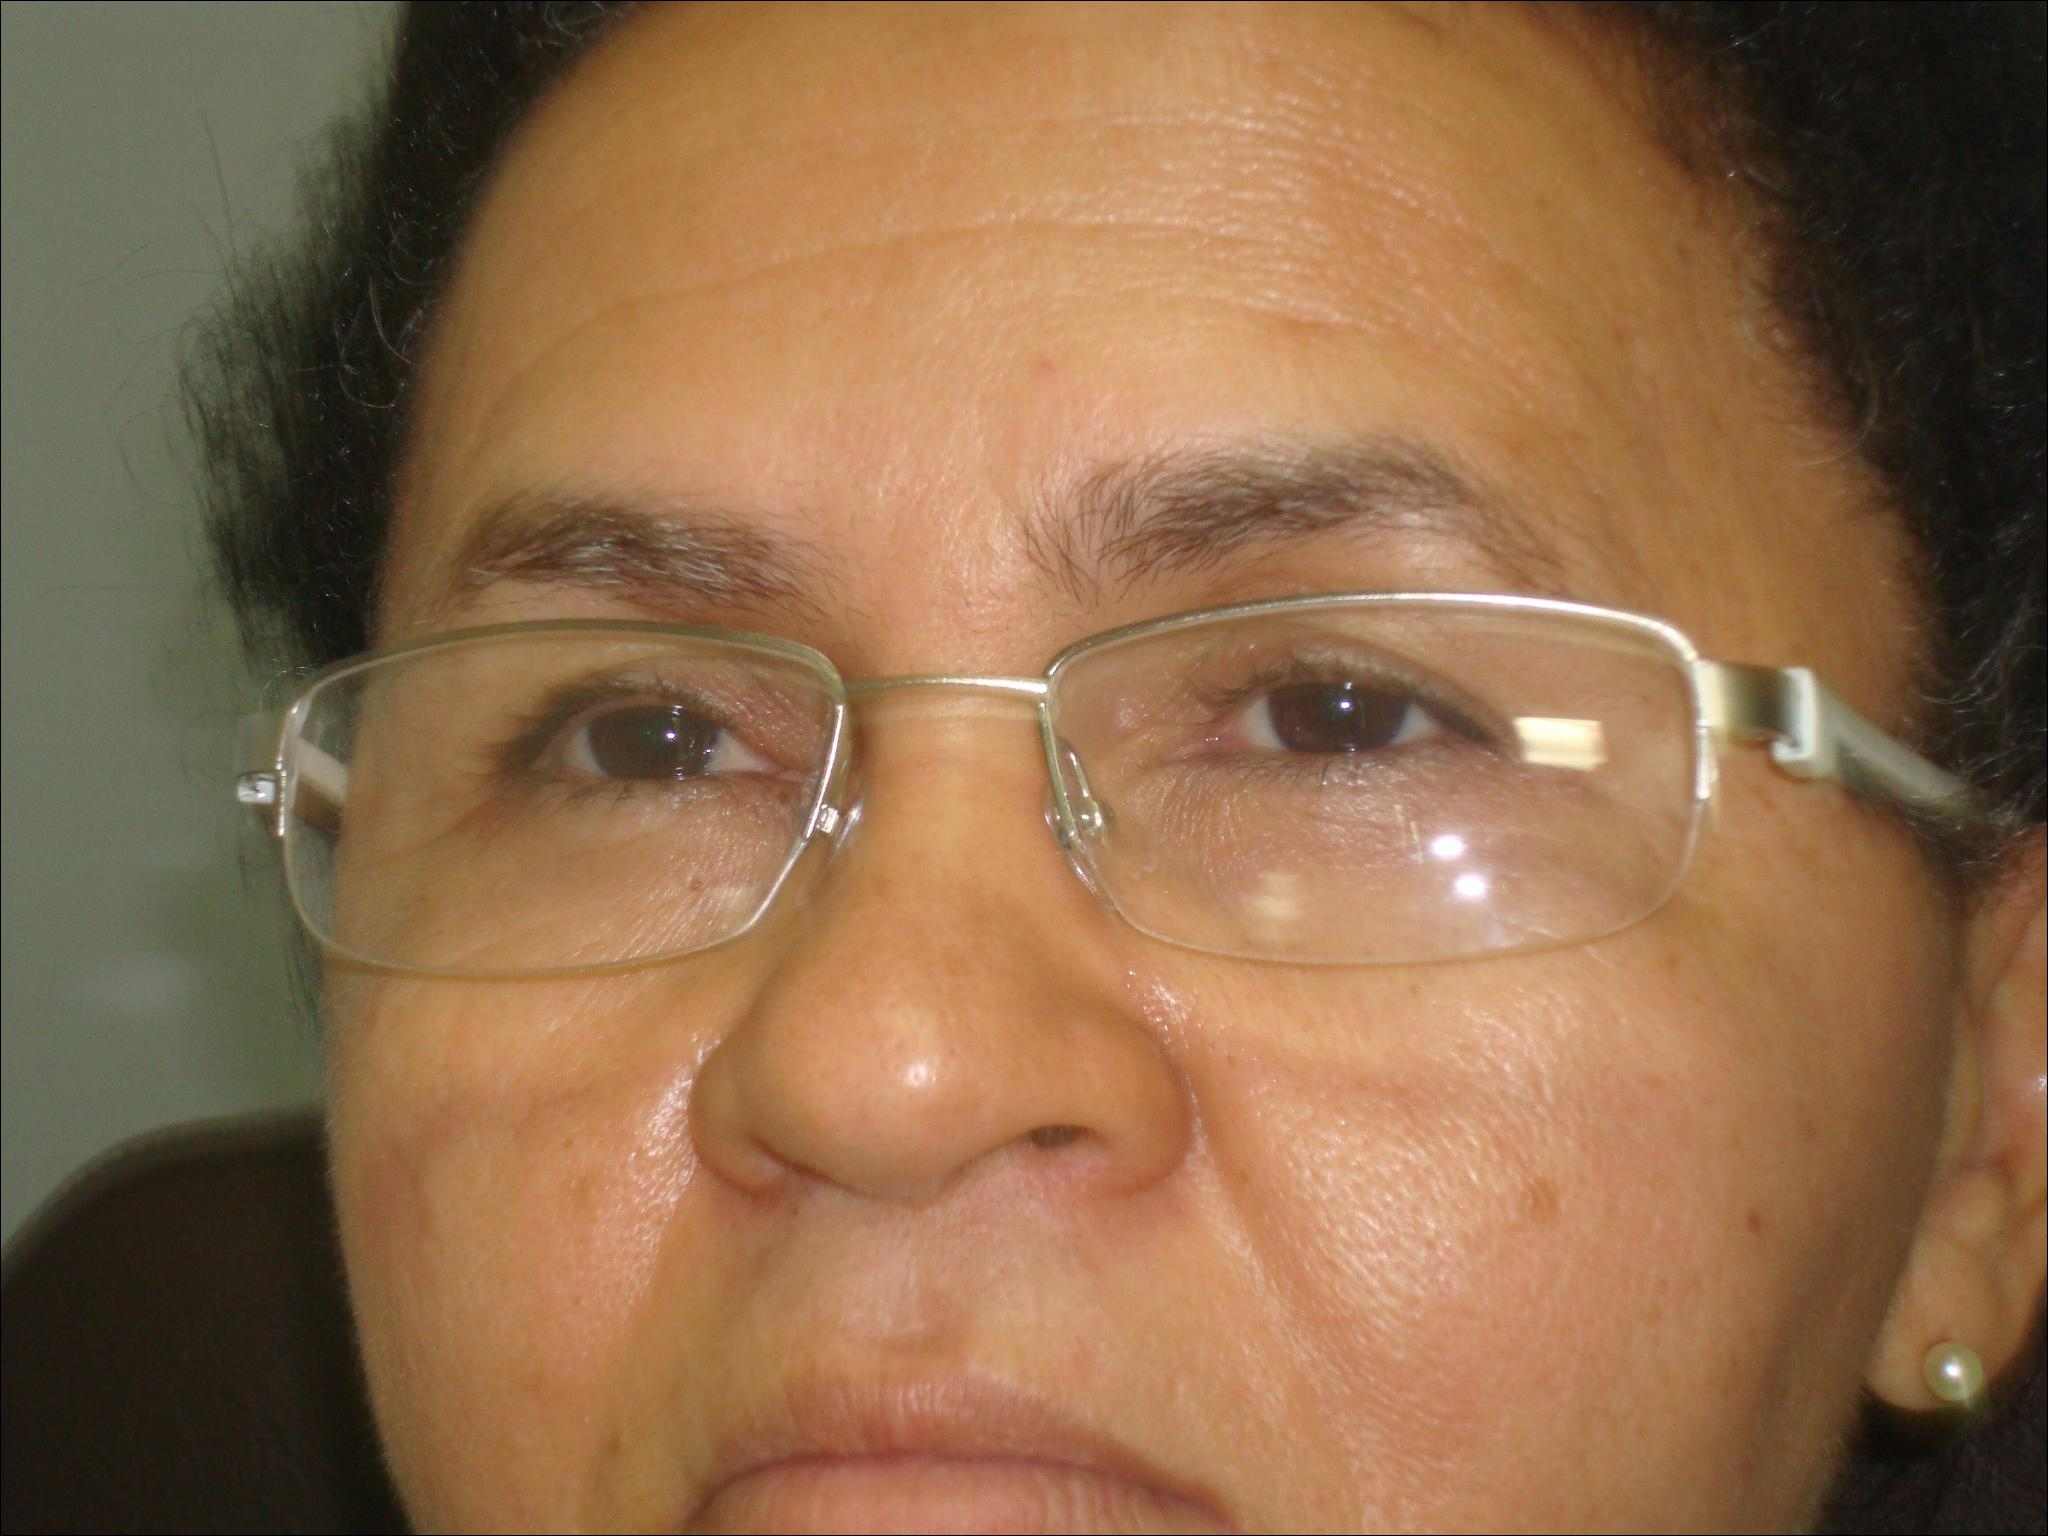flash: (1337, 695, 1356, 715), (663, 728, 677, 742)
limbo: (1269, 649, 1408, 758), (589, 676, 719, 784)
